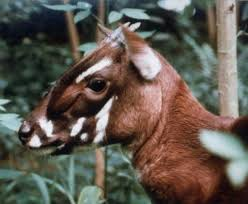sao_la: (16, 27, 200, 159)
